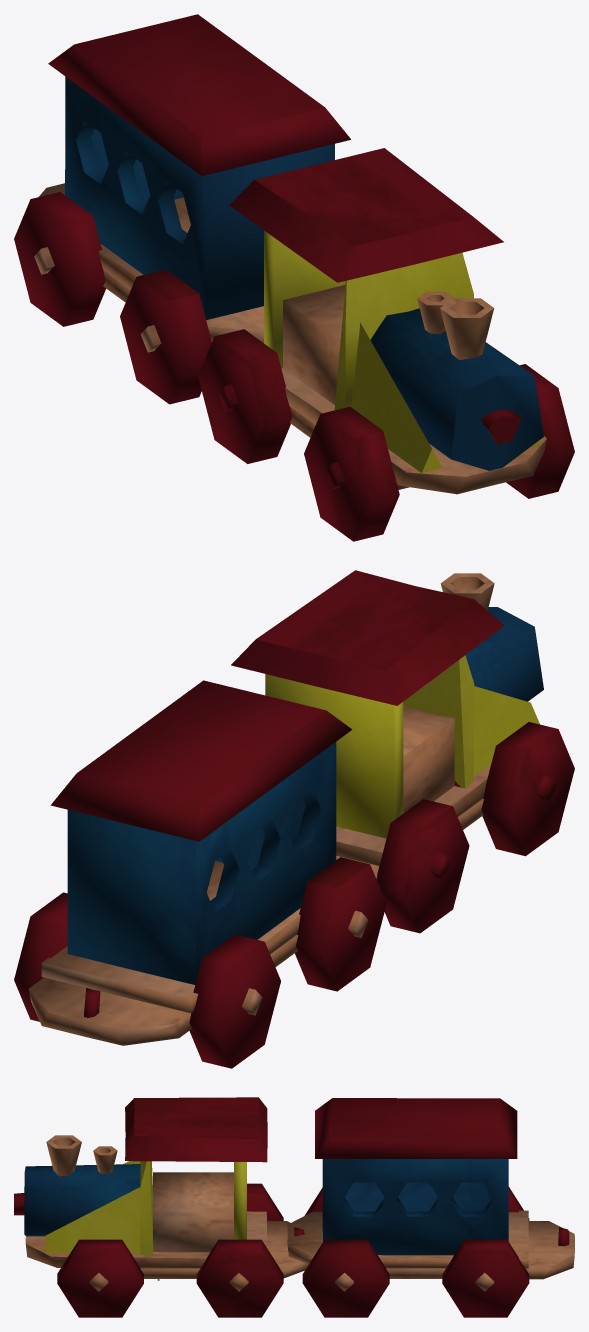
Rendered from Train.fbx.
3 views of the same model, one above another, from view 1: azimuth 30°, elevation 25°; view 2: azimuth 150°, elevation 25°; view 3: azimuth 270°, elevation 25° (orthographic). The views are drawn at different scales.
Parts seen in each view (by area): view 1: Train_Main, Train_Wagon_01; view 2: Train_Wagon_01, Train_Main; view 3: Train_Wagon_01, Train_Main.
Part boxes in pixels (left/top/right/bottom): Train_Main: left=198, top=148, right=574, bottom=541; Train_Wagon_01: left=14, top=14, right=350, bottom=404; Train_Wagon_01: left=14, top=680, right=386, bottom=1068; Train_Main: left=231, top=570, right=574, bottom=933; Train_Wagon_01: left=287, top=1098, right=574, bottom=1317; Train_Main: left=14, top=1097, right=308, bottom=1317.
Size of the model in its own units: 51.82 by 57.84 by 176.
